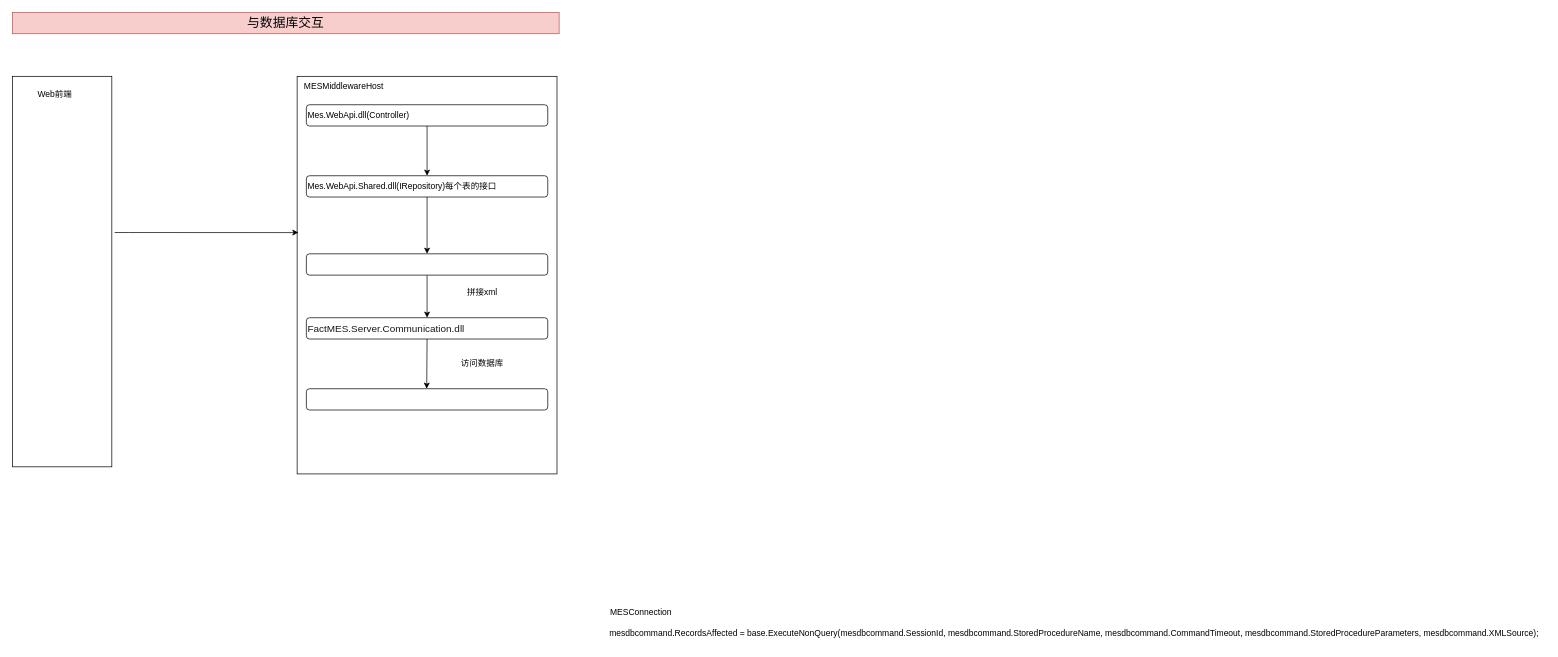
This 1558x657 diagram has some shape labels left out. Here are the shapes that lost their labels. From the top down, the box of each, then its label:
(306, 253, 548, 275): Mes.WebApi.Middleware.Adaptor.dll(Repository)接口实现
(306, 388, 548, 410): FactMES.Server.DataAccess
